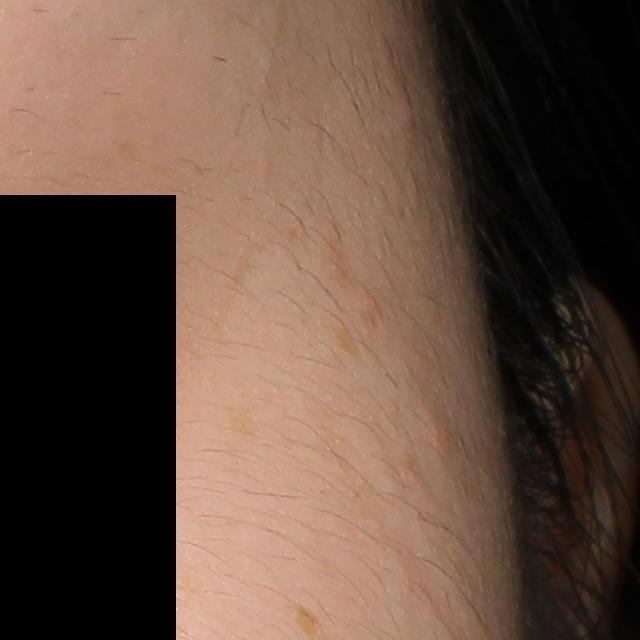melasma: (220, 403, 268, 448), (330, 323, 365, 364)
